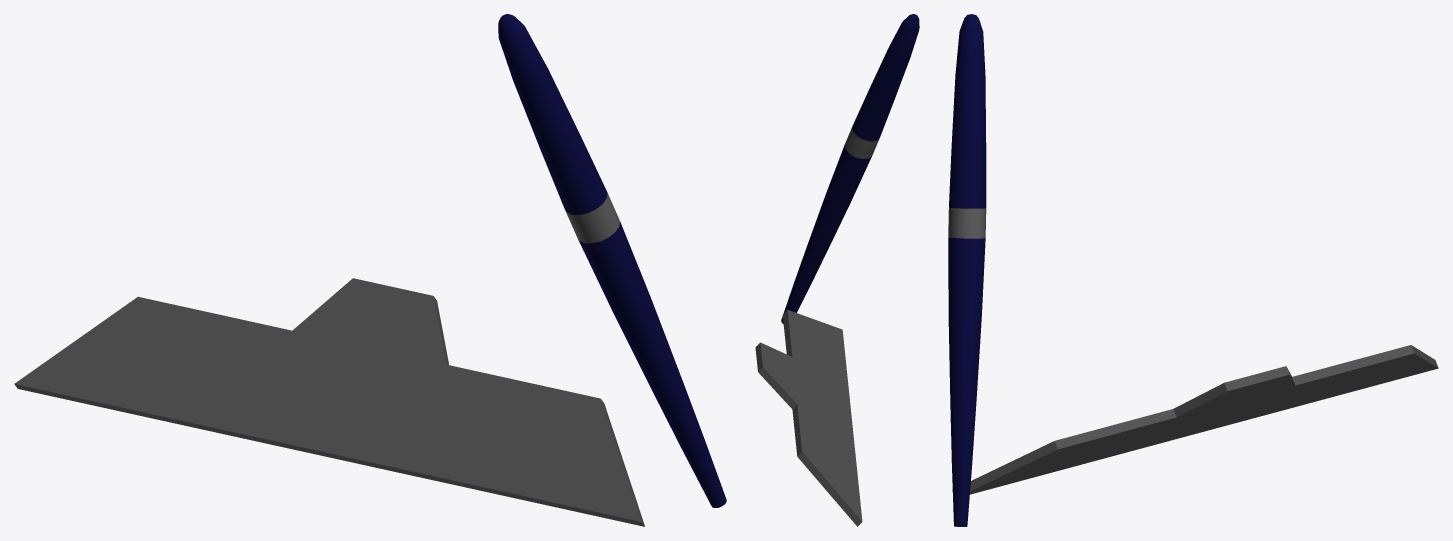
The model's file is sec_clipboard_02.dae.
3 views of the same model, side by side, from view 1: azimuth 30°, elevation 25°; view 2: azimuth 150°, elevation 25°; view 3: azimuth 270°, elevation 25° (orthographic). The views are drawn at different scales.
Parts seen in each view (by area): view 1: pCube21, pen; view 2: pCube21, pen; view 3: pen, pCube21.
Boxes of the visible parts, x1,y1,x2,y2 form: pCube21: (14, 278, 644, 526); pen: (498, 14, 726, 507); pCube21: (755, 310, 862, 526); pen: (781, 14, 919, 323); pen: (948, 14, 986, 526); pCube21: (952, 345, 1438, 494).
Size of what is drawn, in the model's own units: 0.099 by 0.1211 by 0.1241.
